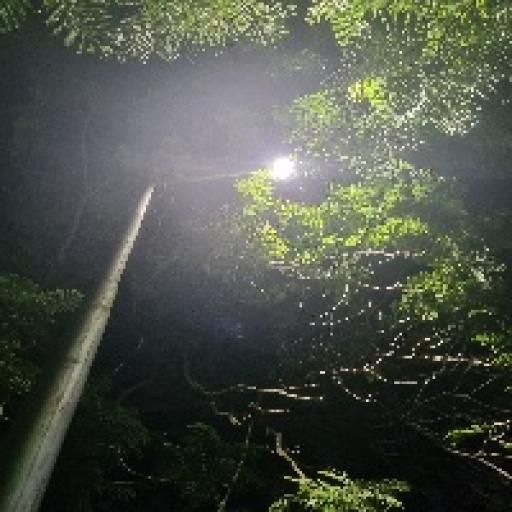Working: (260, 154, 304, 187)
